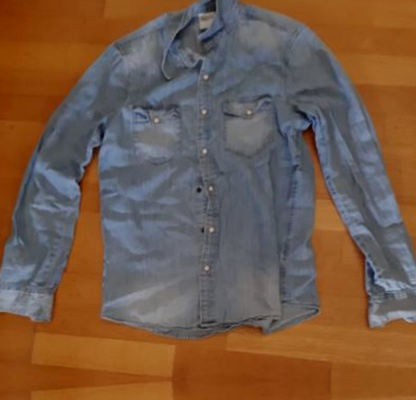Blazer: (1, 0, 416, 347)
